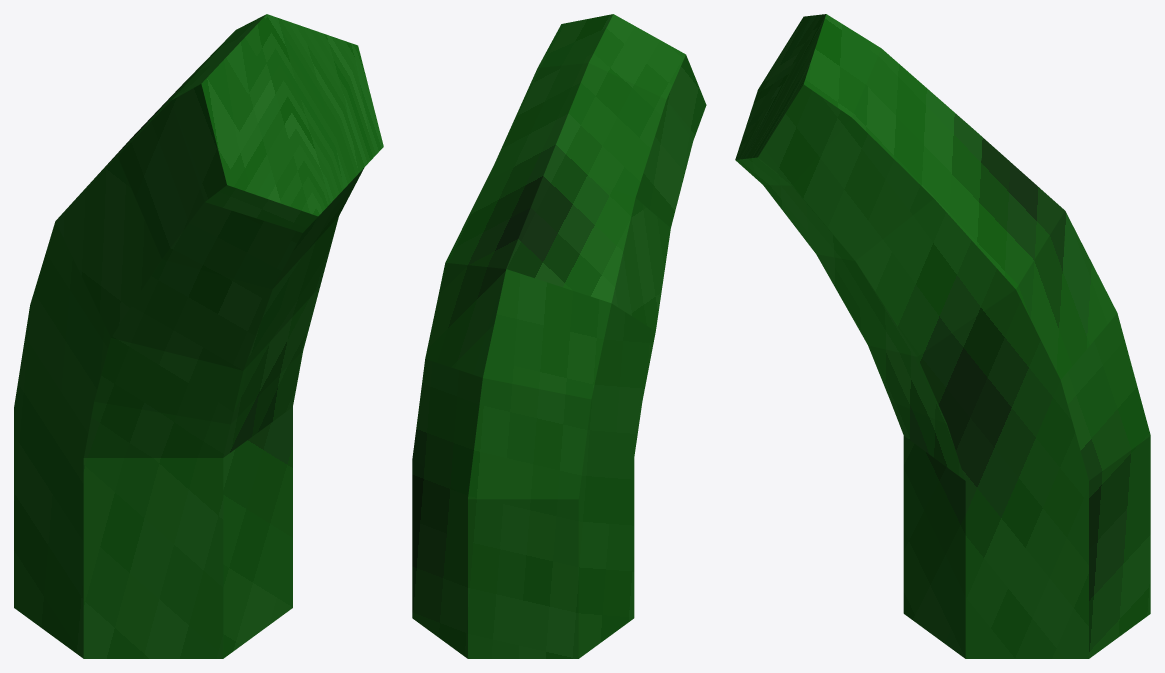
File: thorn2.obj
3 views of the same model, side by side, from view 1: azimuth 30°, elevation 25°; view 2: azimuth 150°, elevation 25°; view 3: azimuth 270°, elevation 25° (orthographic). The views are drawn at different scales.
Visible parts, largest first — view 1: thorn_Cylinder; view 2: thorn_Cylinder; view 3: thorn_Cylinder.
Part boxes in pixels (<box>): thorn_Cylinder: <box>14,14,383,658</box>; thorn_Cylinder: <box>412,14,706,658</box>; thorn_Cylinder: <box>735,14,1150,658</box>.
Size of the model in its own units: 0.9207 by 2.85 by 1.79.
